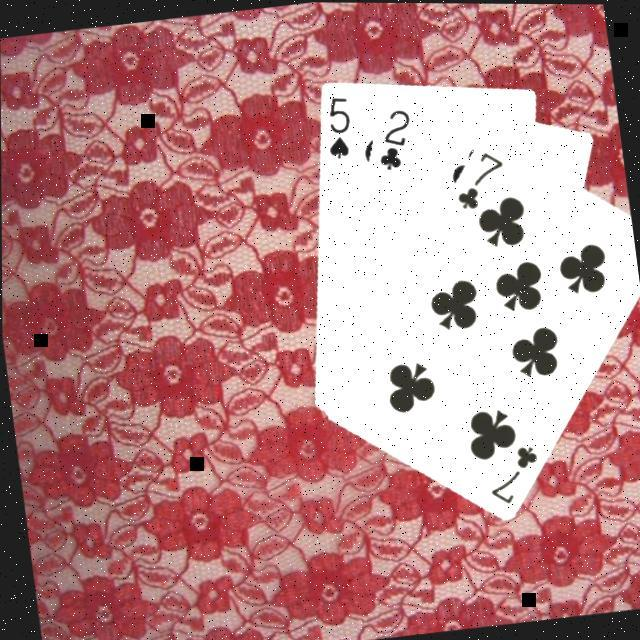2C: (371, 100, 421, 172)
5S: (319, 89, 359, 160)
7C: (482, 436, 547, 505), (449, 143, 513, 211)
